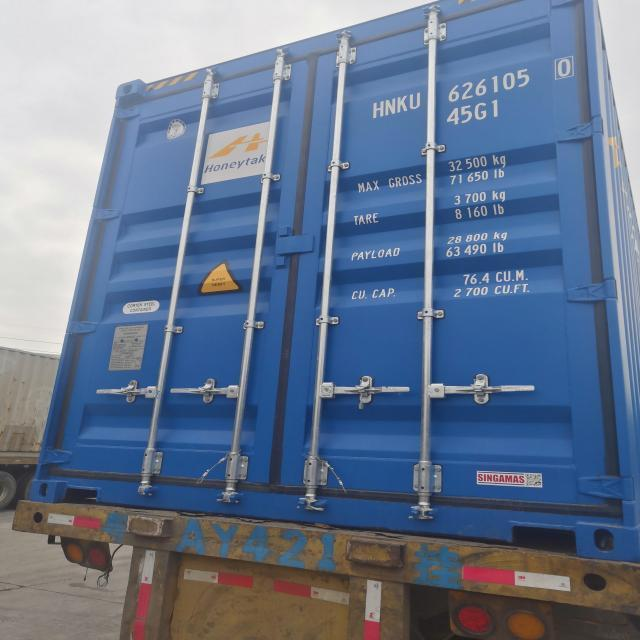ISO: (446, 101, 500, 122)
container_number: (366, 56, 578, 122)
